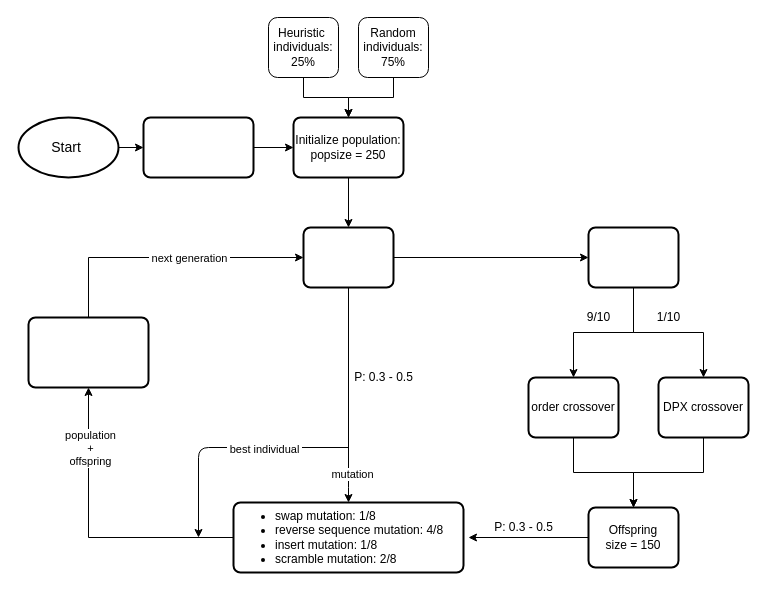
Some shapes in this 766 by 596 pixel diagram are drawn without their labels. The box of each missing label's shape, as (x1, y1, x2, y2) in pixels:
(λ+µ)-elimination + crowding (20% chance): (27, 316, 149, 388)
Check if disconnected cities: (142, 116, 254, 178)
K-tournament selection: (587, 226, 679, 288)
Population: (302, 226, 394, 288)
